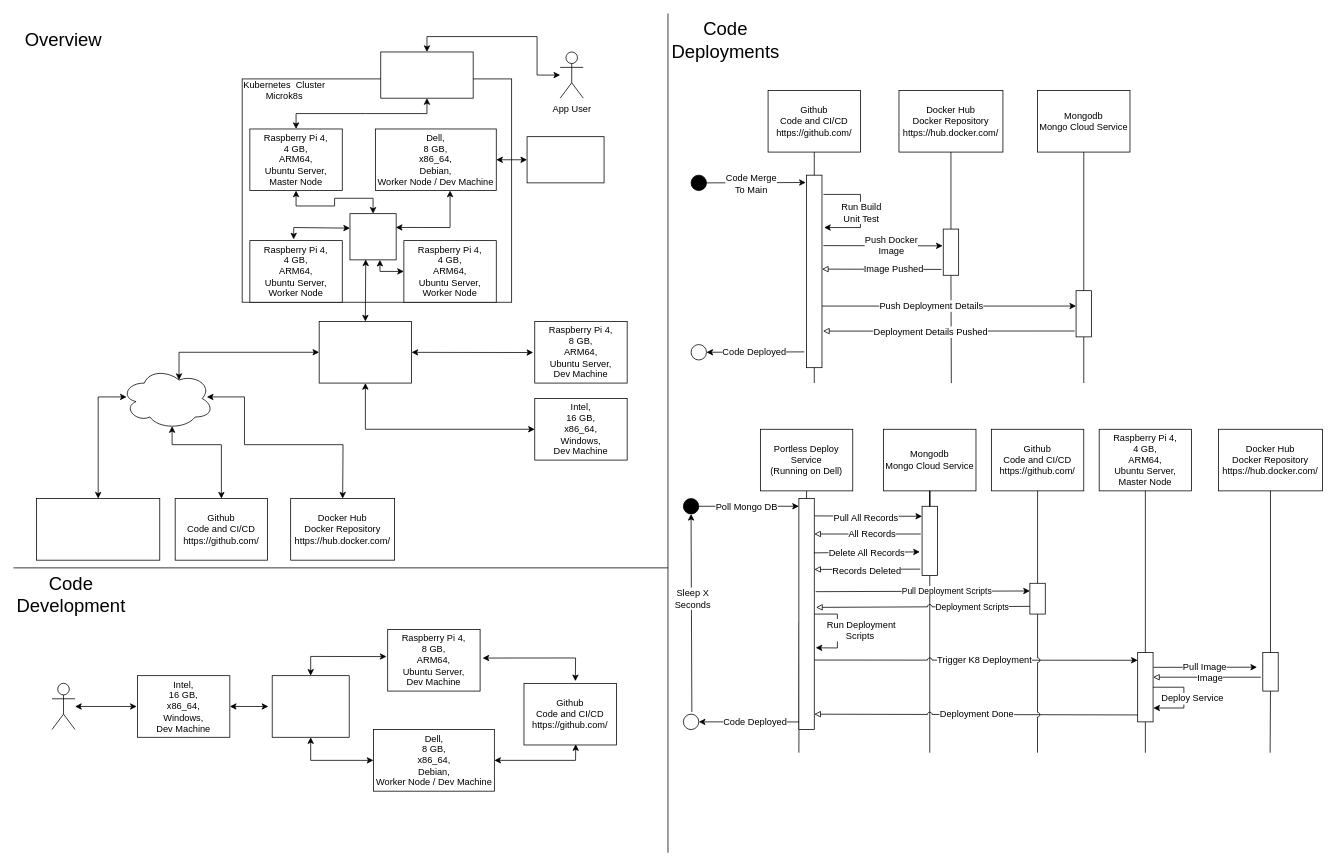
The diagram is 1336 pixels wide and 867 high, and some of its shapes have lost their labels. The centre of each missing label's shape, as x and y in pixels:
Developer: the point at 63,706
Mongodb Mongo Cloud Service https://www.mongodb.com/: the point at 98,529
NGINX Ingress Controller: the point at 426,74
Portless Deploy Service: the point at 565,159
Router: the point at 365,352
Switch tp-link 5 Port Gigabit: the point at 372,236
Visual Studio Code Remote Explorer Or SSH Client: the point at 310,706
